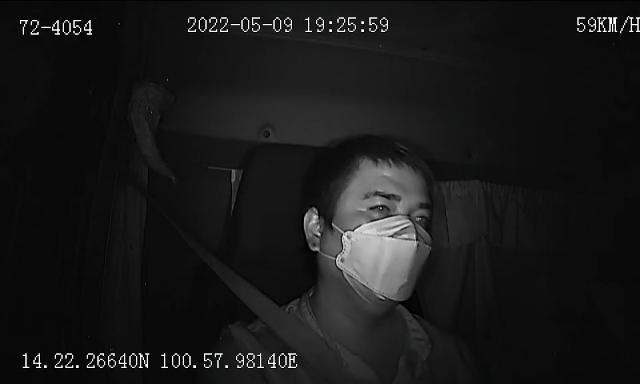SafeDriving: (362, 196, 396, 216)
Seatbelt: (193, 244, 344, 384)
